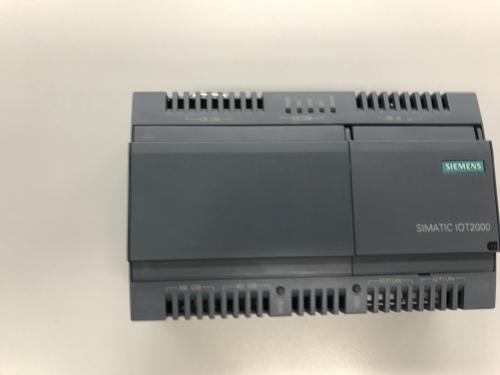device: (127, 91, 500, 322)
